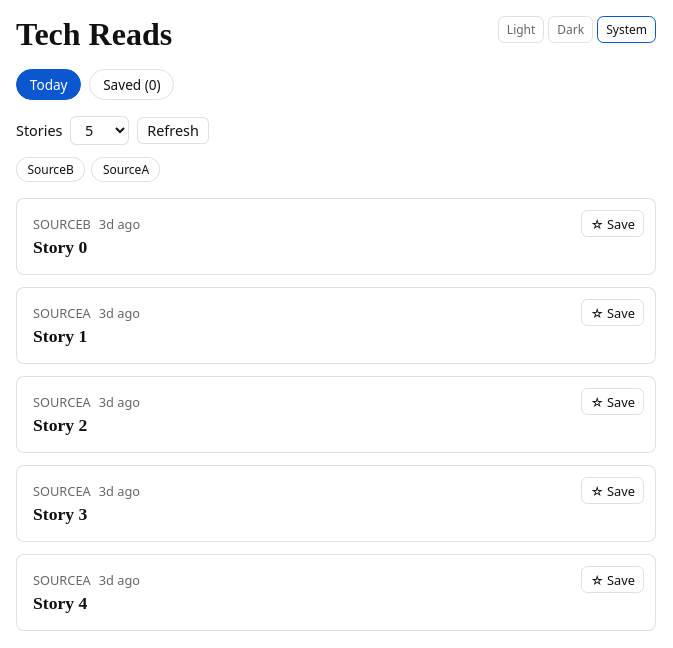
App › hides stories from a muted source
Expected: the heading "Story 0" is shown, 33,237 -> 87,257
Click the button "SourceB". click: (51, 170)
box: 16,157 -> 85,182
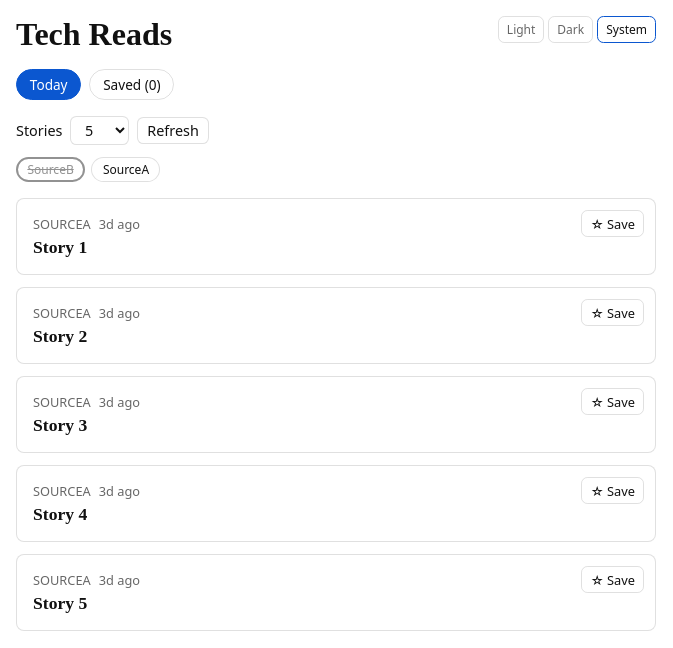
Expected: the heading "Story 1" is shown, 33,237 -> 87,257
Result: the button "Story 0" is gone
